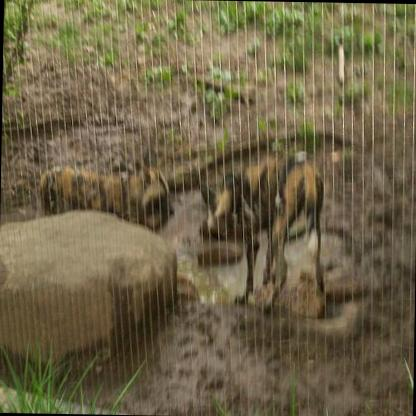African_hunting_dog: (196, 148, 329, 318), (36, 160, 176, 225)
